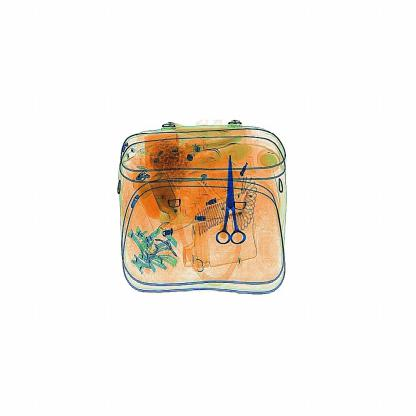gun: (216, 139, 252, 264)
